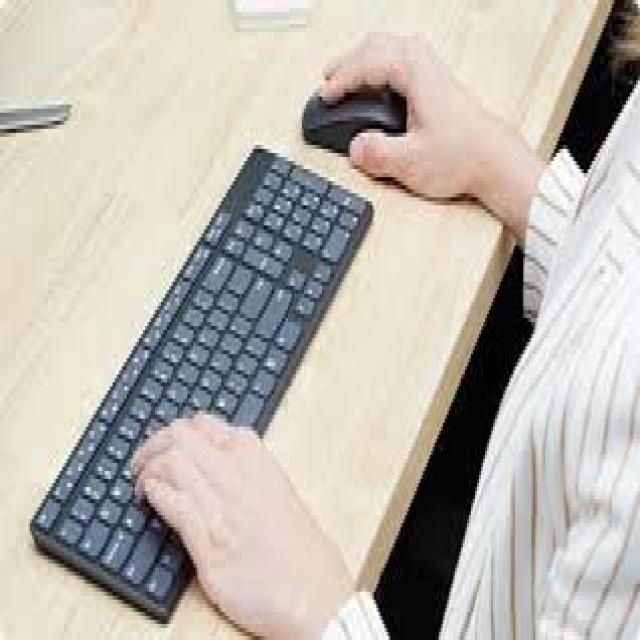others: (18, 48, 489, 640)
